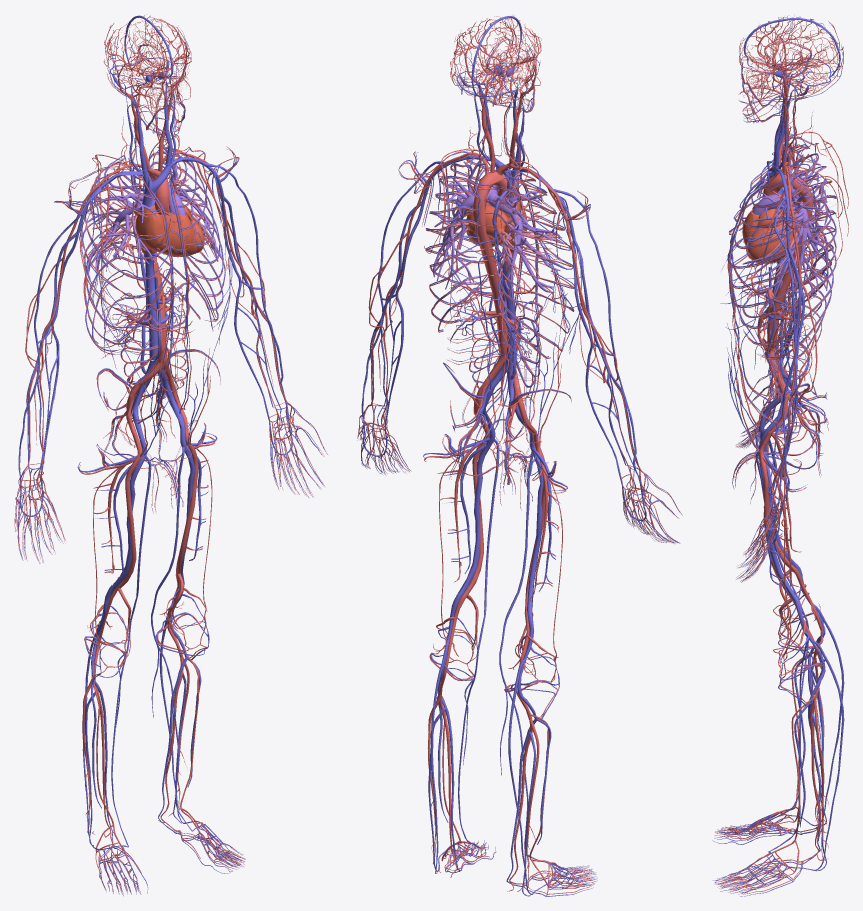
The model's file is circulatory.glb.
The picture shows the model from 3 angles, left to right: view 1: azimuth 30°, elevation 25°; view 2: azimuth 150°, elevation 25°; view 3: azimuth 270°, elevation 25°; orthographic projection. The views are drawn at different scales.
Parts seen in each view (by area): view 1: Coronary sinus, Left coronary artery, Left pulmonary artery, Left atrium, Left inferior pulmonary vein; view 2: Coronary sinus, Left coronary artery, Left pulmonary artery, Left inferior pulmonary vein, Left atrium; view 3: Left coronary artery, Coronary sinus, Left pulmonary artery, Left atrium, Left inferior pulmonary vein.
Boxes of the visible parts, x1,y1,x2,y2 form: Coronary sinus: (15,15,325,896); Left coronary artery: (14,15,327,893); Left pulmonary artery: (86,150,222,279); Left atrium: (133,203,204,256); Left inferior pulmonary vein: (88,156,218,261); Coronary sinus: (358,16,681,896); Left coronary artery: (357,14,682,894); Left pulmonary artery: (433,157,565,305); Left inferior pulmonary vein: (435,160,562,294); Left atrium: (465,201,526,252); Left coronary artery: (714,15,848,894); Coronary sinus: (712,18,844,896); Left pulmonary artery: (738,149,828,298); Left atrium: (742,194,800,263); Left inferior pulmonary vein: (754,152,827,294).
Size of the model in its own units: 0.6641 by 1.7 by 0.2488.
